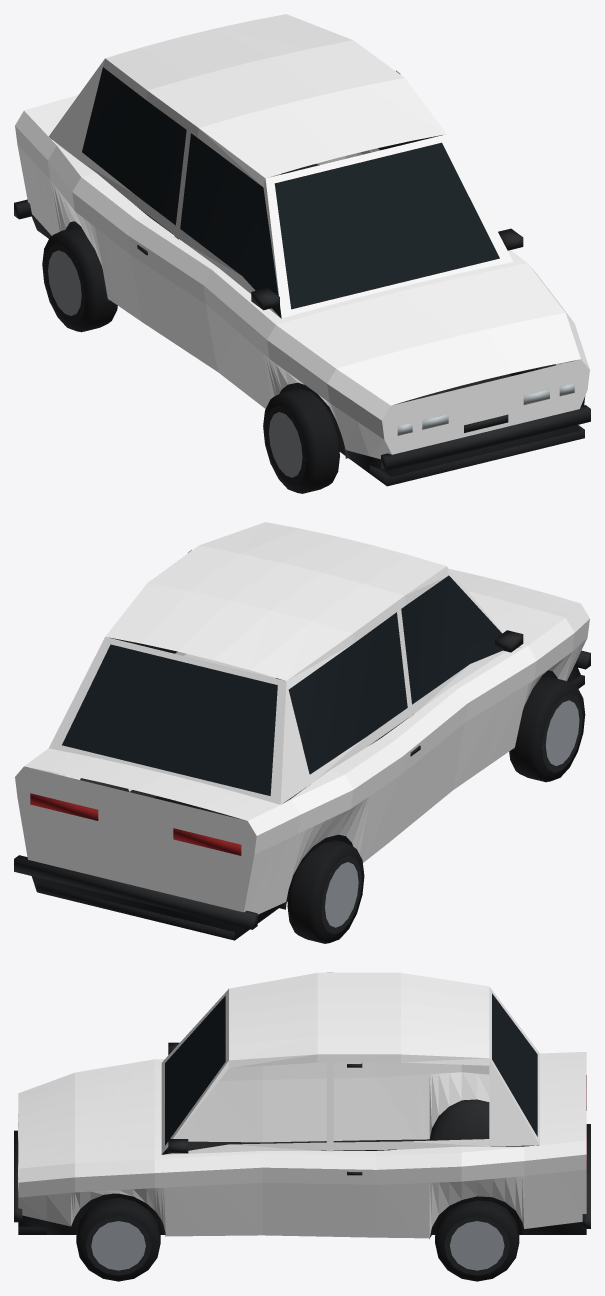
Rendered from kanaya_bago.glb.
3 views of the same model, one above another, from view 1: azimuth 30°, elevation 25°; view 2: azimuth 150°, elevation 25°; view 3: azimuth 270°, elevation 25° (orthographic). The views are drawn at different scales.
Parts seen in each view (by area): view 1: Body_Paint, Body_Details, Mount_FrontLeft_Wheel_Details, Mount_RearLeft_Wheel_Details; view 2: Body_Paint, Body_Details, Mount_RearLeft_Wheel_Details, Mount_FrontLeft_Wheel_Details; view 3: Body_Paint, Body_Details, Mount_FrontRight_Wheel_Details, Mount_RearRight_Wheel_Details.
Part boxes in pixels (x1=…): Body_Paint: x1=15, y1=14, x2=589, y2=459; Body_Details: x1=14, y1=67, x2=590, y2=486; Mount_FrontLeft_Wheel_Details: x1=263, y1=388, x2=339, y2=493; Mount_RearLeft_Wheel_Details: x1=42, y1=227, x2=117, y2=332; Body_Paint: x1=15, y1=522, x2=589, y2=914; Body_Details: x1=14, y1=575, x2=590, y2=940; Mount_RearLeft_Wheel_Details: x1=287, y1=840, x2=364, y2=943; Mount_FrontLeft_Wheel_Details: x1=509, y1=676, x2=585, y2=782; Body_Paint: x1=18, y1=972, x2=586, y2=1238; Body_Details: x1=14, y1=993, x2=590, y2=1239; Mount_FrontRight_Wheel_Details: x1=76, y1=1198, x2=160, y2=1281; Mount_RearRight_Wheel_Details: x1=435, y1=1200, x2=519, y2=1281.
Size of the model in its own units: 1.72 by 1.57 by 3.77.
Materials: 2 (1 with a texture image).
